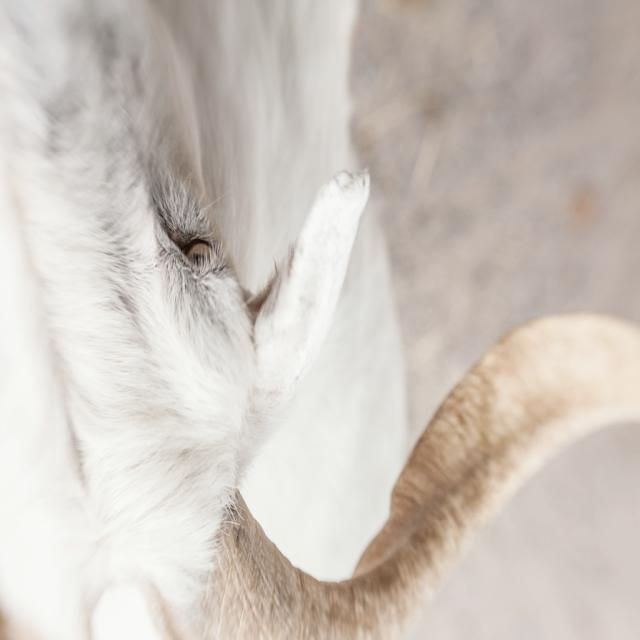Goat: (2, 2, 639, 640)
